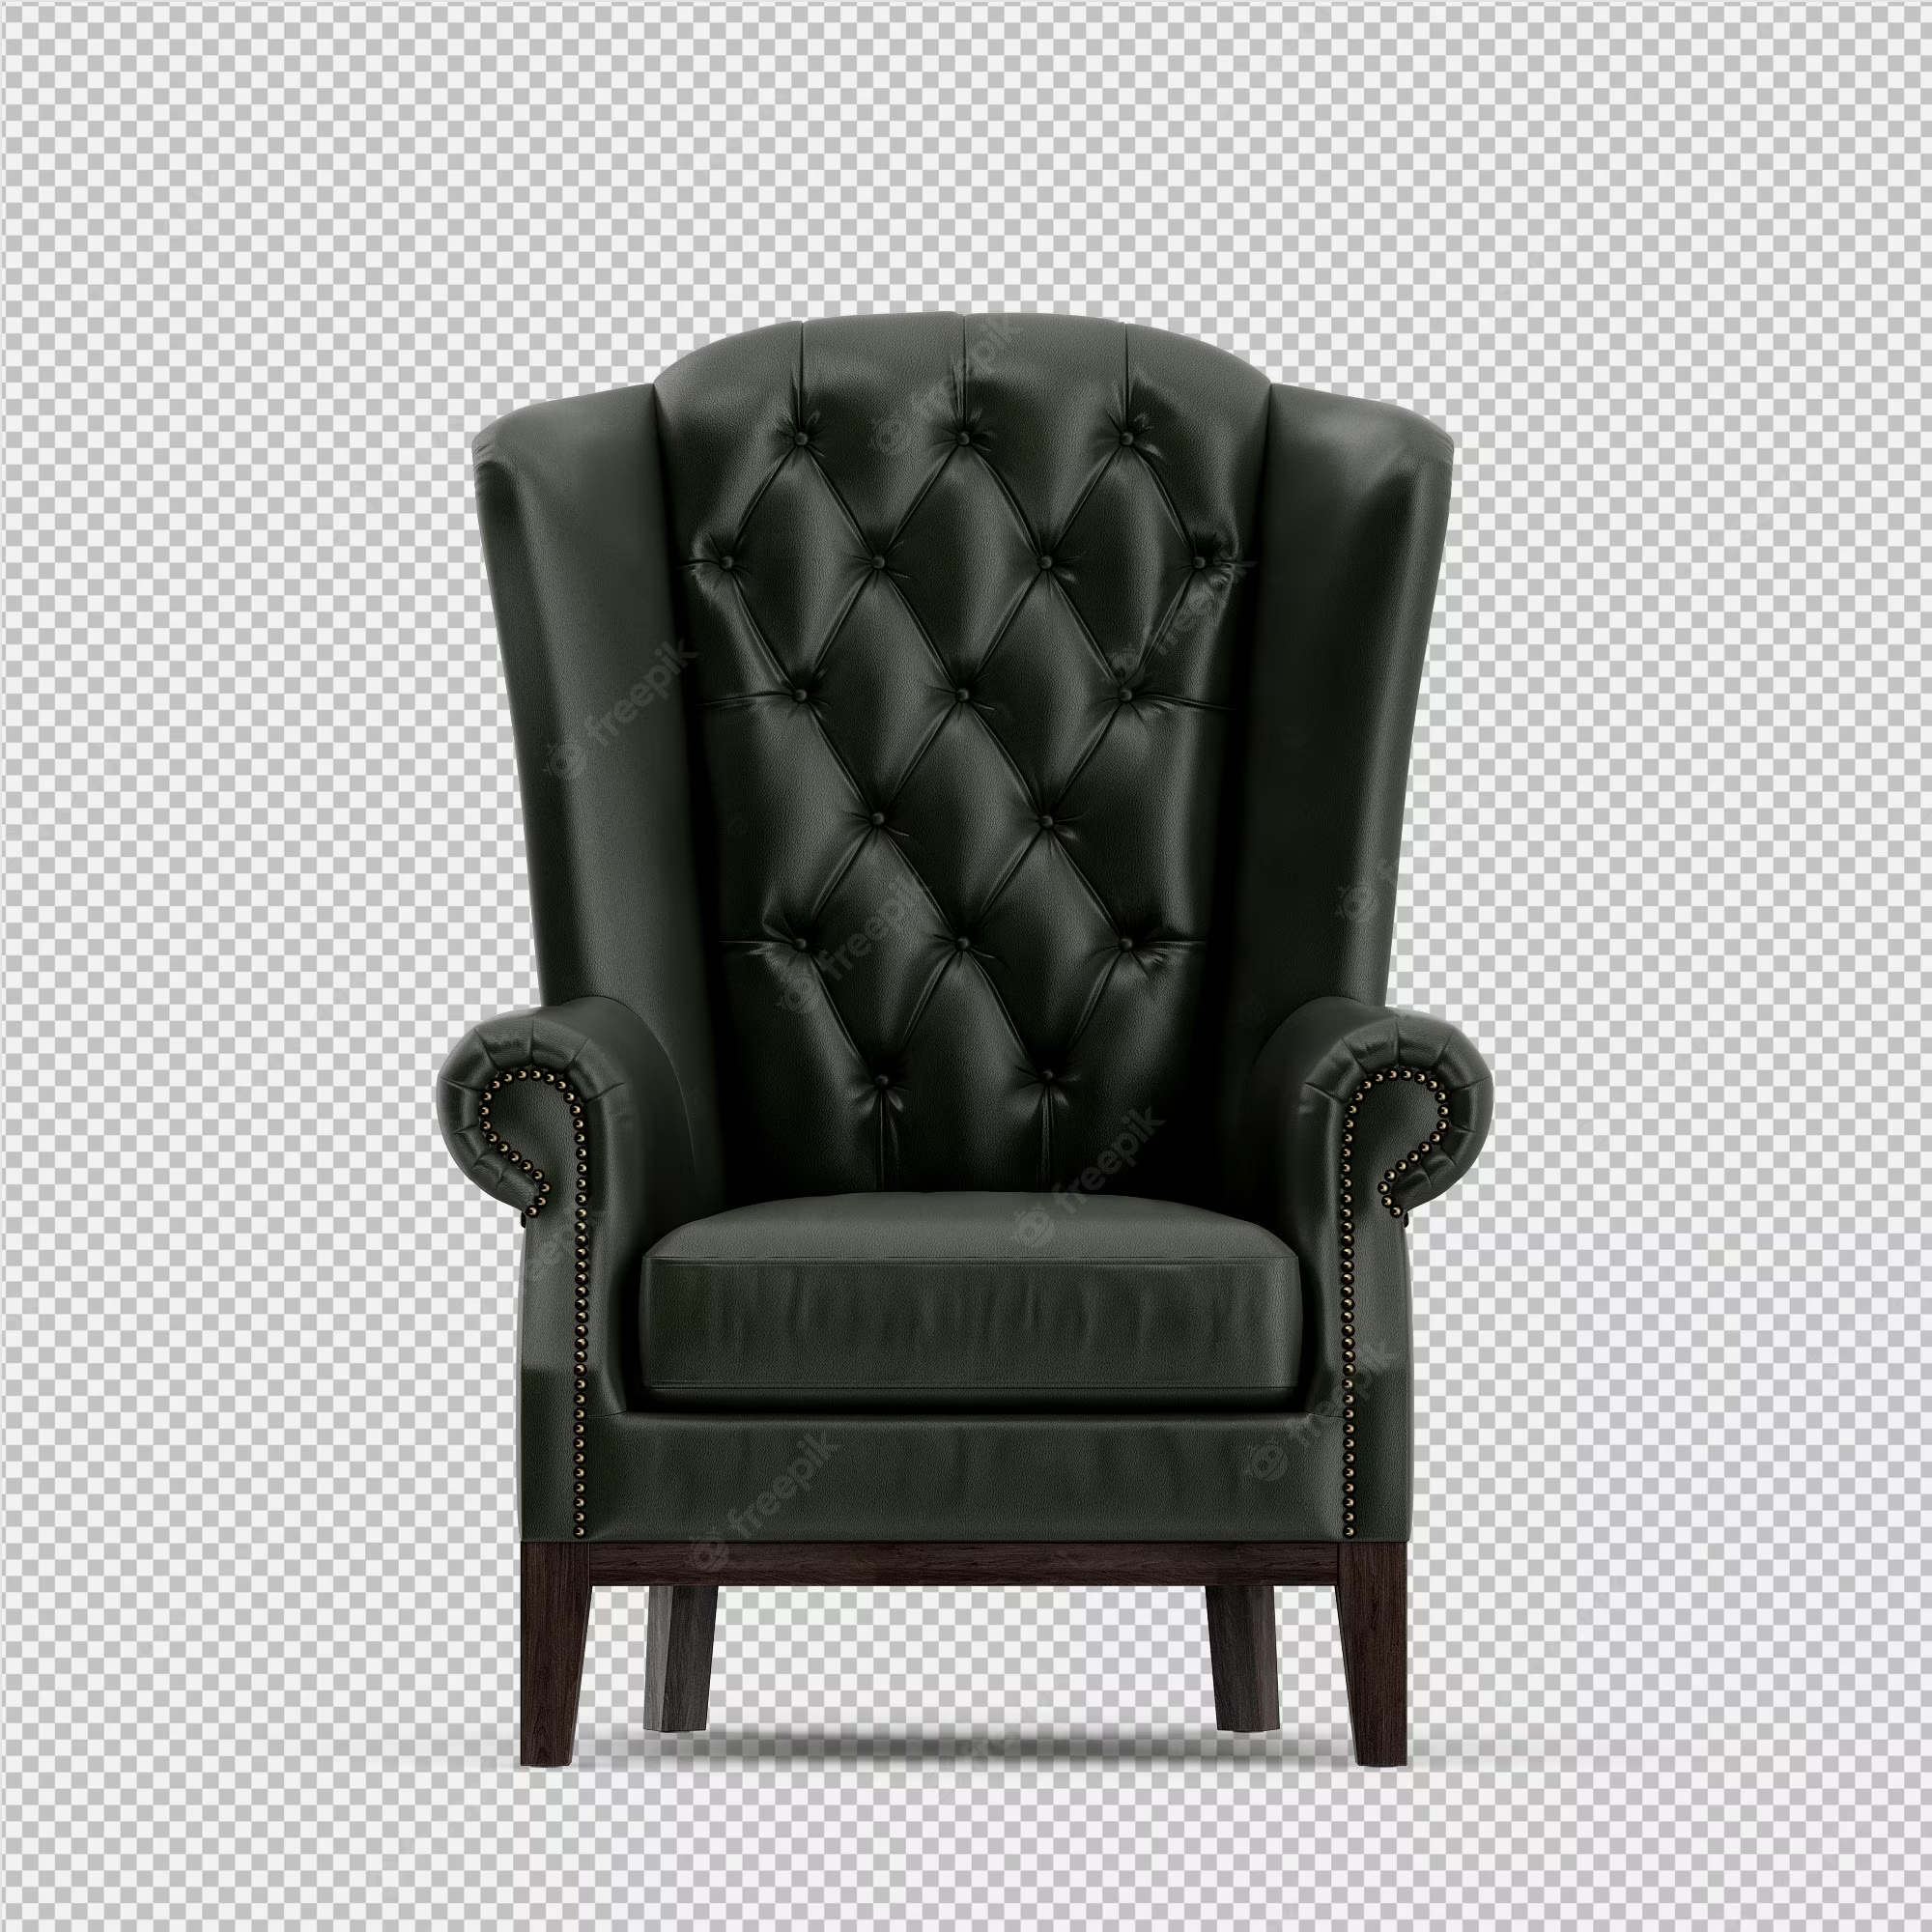chair: (446, 292, 1468, 1796)
